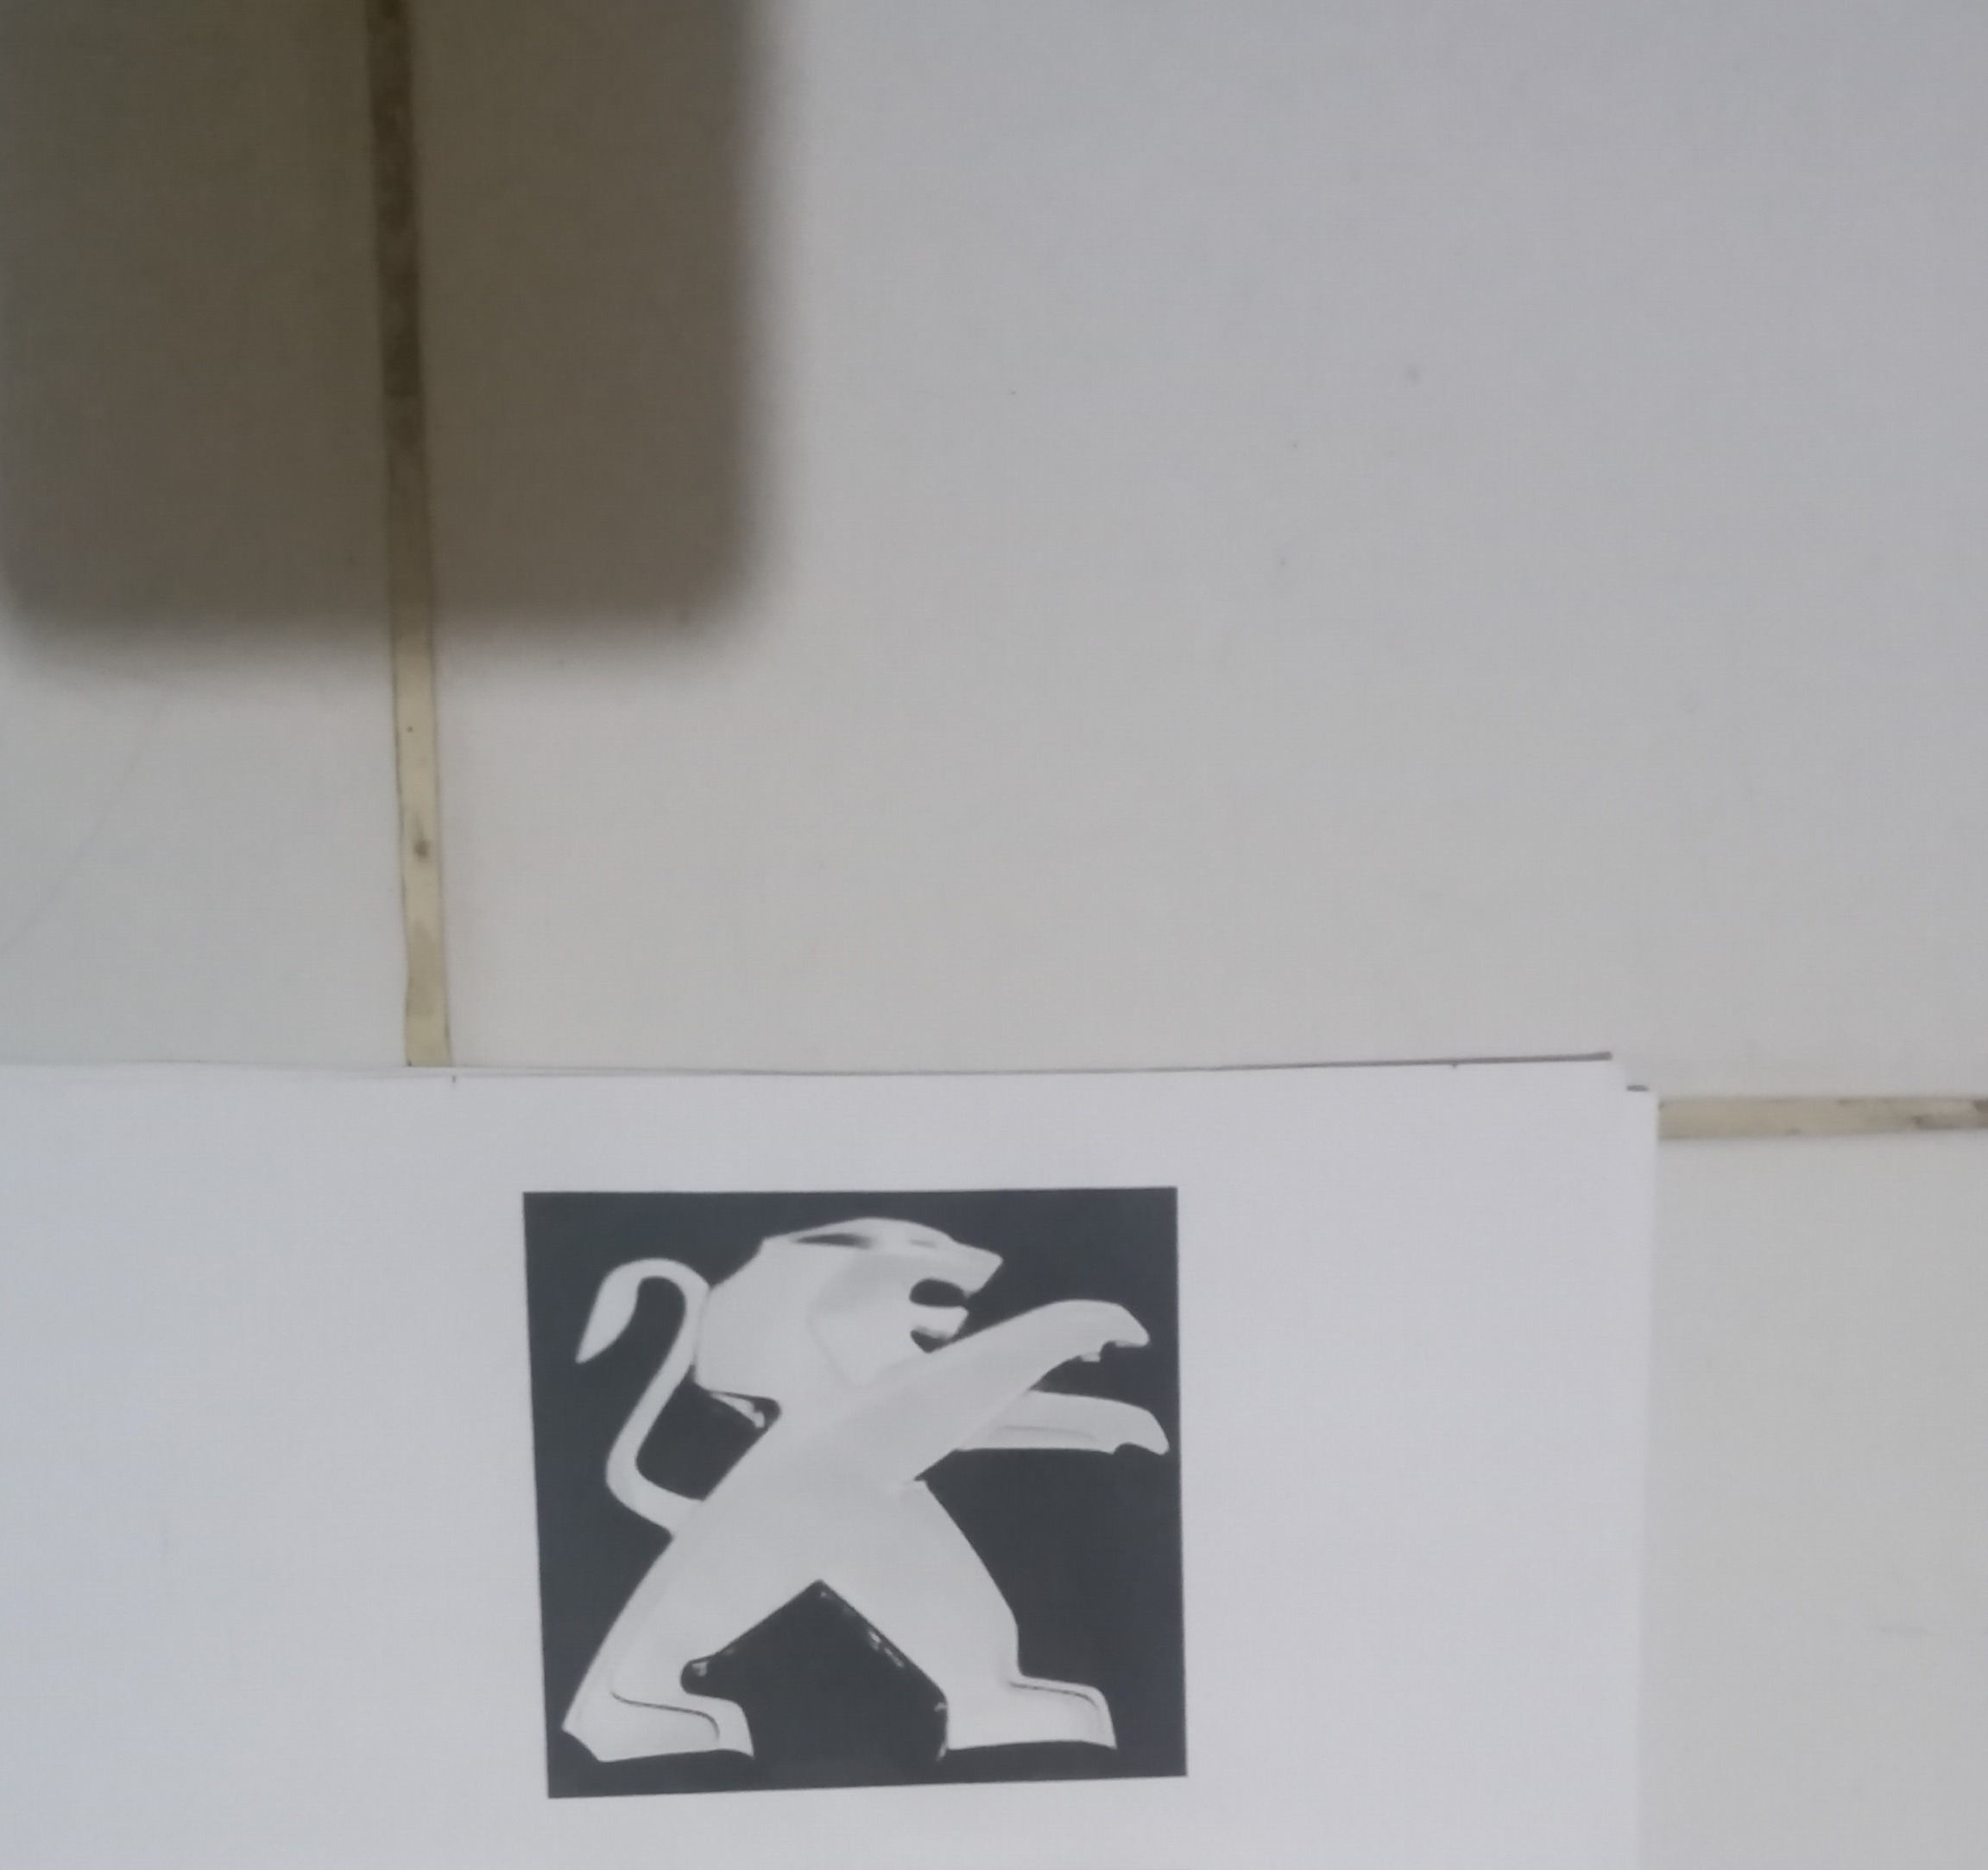Peugeot: (533, 1193, 1185, 1773)
